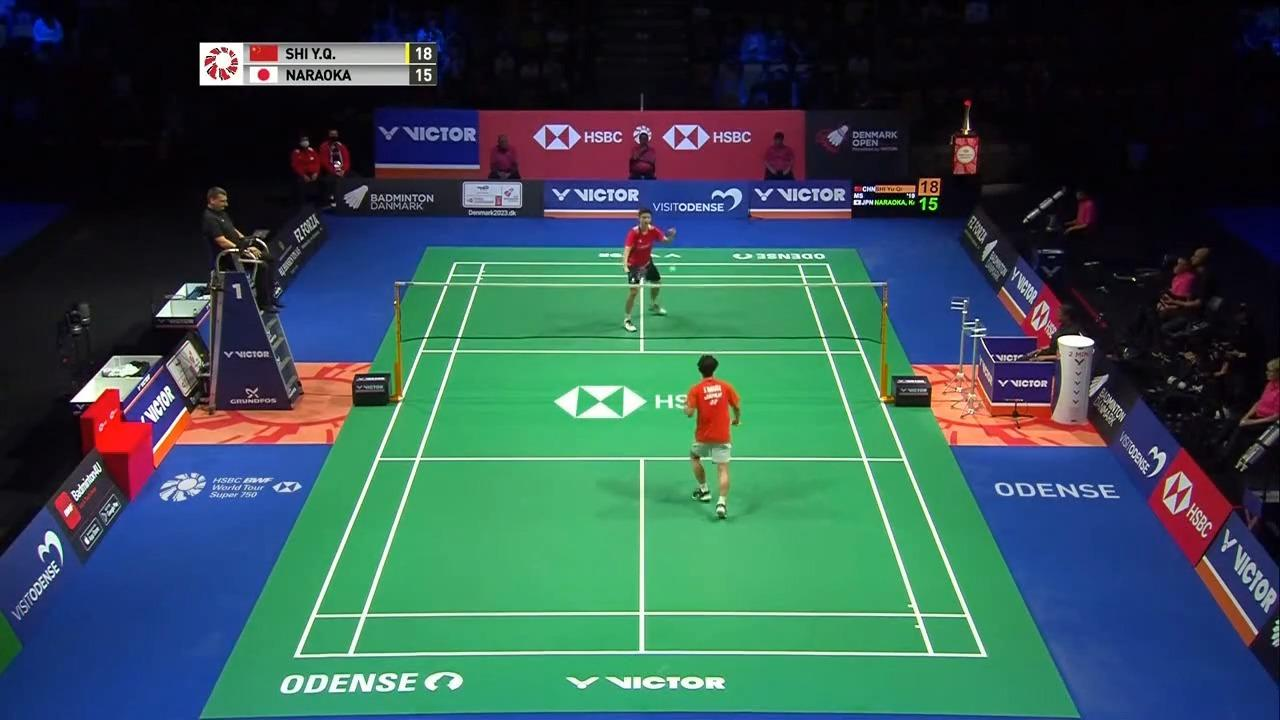shuttle: (668, 262, 677, 273)
